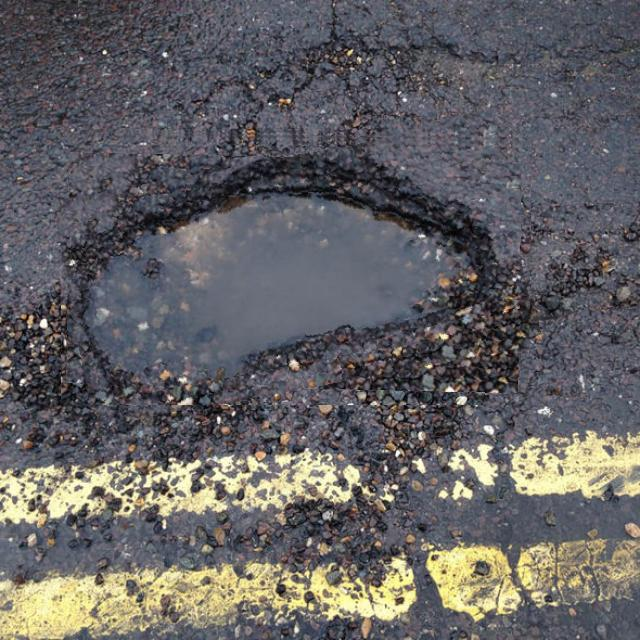Pothole: (61, 130, 532, 405)
